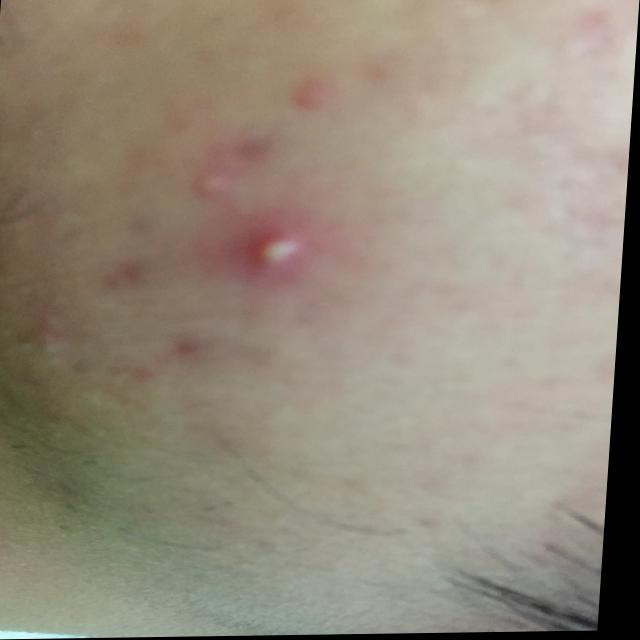blackheads: (239, 225, 312, 277), (191, 170, 239, 204)
